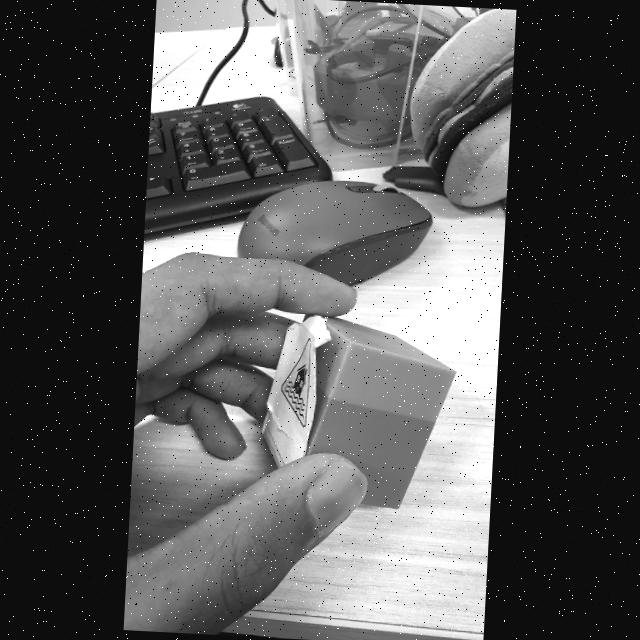Tsunami: (282, 340, 311, 428)
